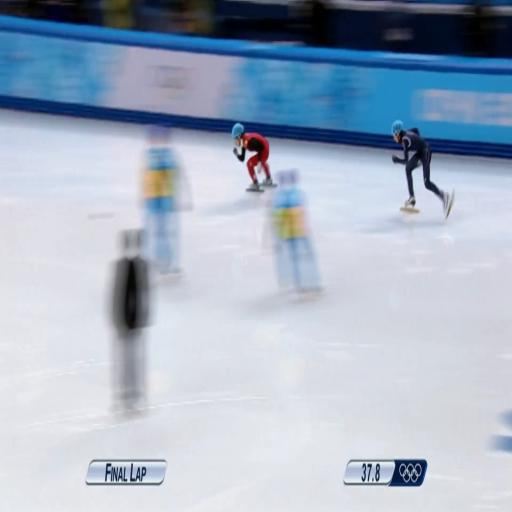Skater: (392, 121, 453, 217), (232, 123, 274, 191)
